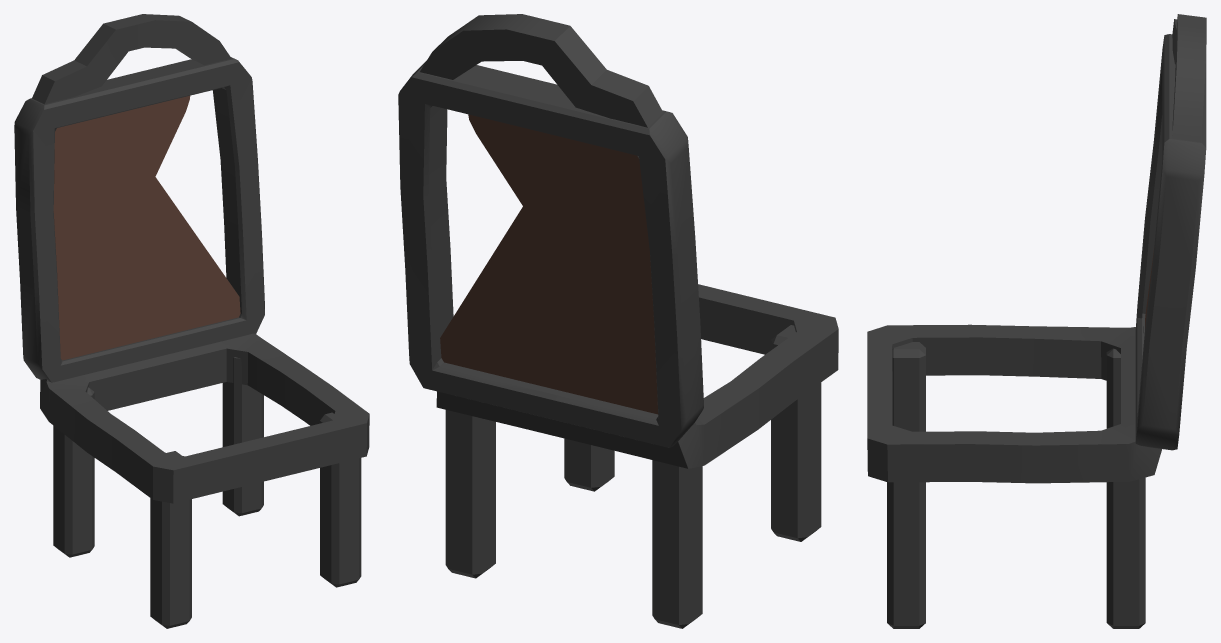
Rendered from ChairLV1_Bad.fbx.
3 views of the same model, side by side, from view 1: azimuth 30°, elevation 25°; view 2: azimuth 150°, elevation 25°; view 3: azimuth 270°, elevation 25° (orthographic). The views are drawn at different scales.
Parts seen in each view (by area): view 1: ChairLv1_Bad; view 2: ChairLv1_Bad; view 3: ChairLv1_Bad.
Boxes of the visible parts, bbox=[...] form: ChairLv1_Bad: bbox=[14, 14, 369, 628]; ChairLv1_Bad: bbox=[398, 14, 838, 628]; ChairLv1_Bad: bbox=[867, 14, 1206, 628].
Bounding box in the file's own units: 74.11 × 152 × 84.79.
Materials: 1 (1 with a texture image).
